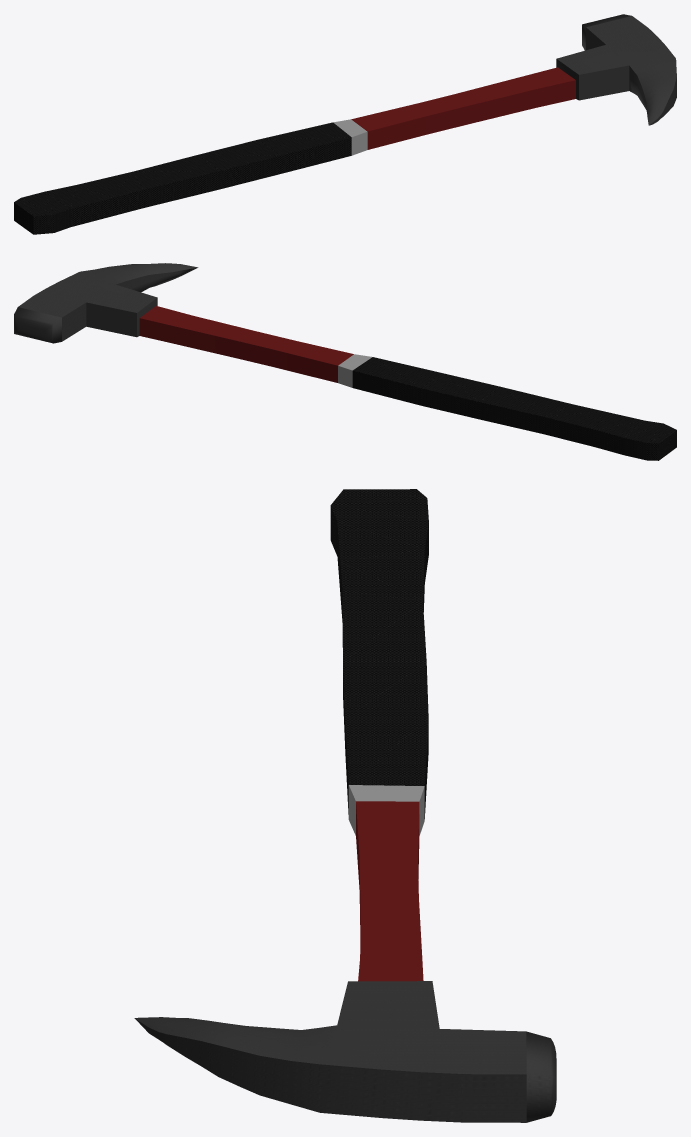
The model's file is Hammer.FBX.
The picture shows the model from 3 angles, top to bottom: view 1: azimuth 30°, elevation 25°; view 2: azimuth 150°, elevation 25°; view 3: azimuth 270°, elevation 25°; orthographic projection. The views are drawn at different scales.
Parts seen in each view (by area): view 1: a; view 2: a; view 3: a.
Boxes of the visible parts, box(x1,y1,x2,y2) form: a: box(14, 14, 676, 234); a: box(14, 263, 676, 460); a: box(134, 489, 556, 1122).
Bounding box in the file's own units: 83.6 × 3.16 × 24.93.
